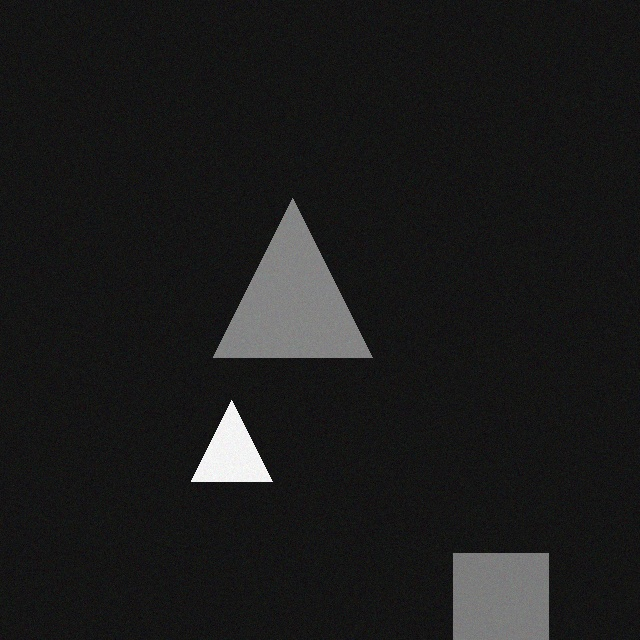square: (460, 539, 555, 634)
triangle: (220, 184, 379, 343), (198, 386, 279, 467)
